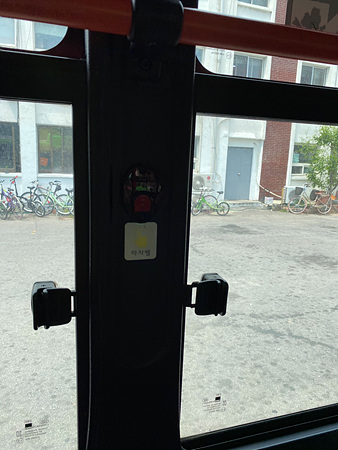bell: (123, 164, 163, 219)
